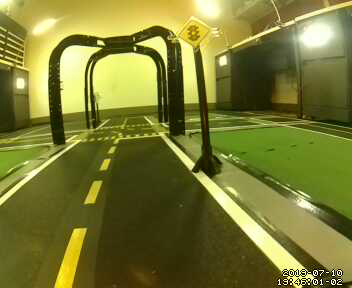Traffic light sign: (178, 16, 213, 48)
